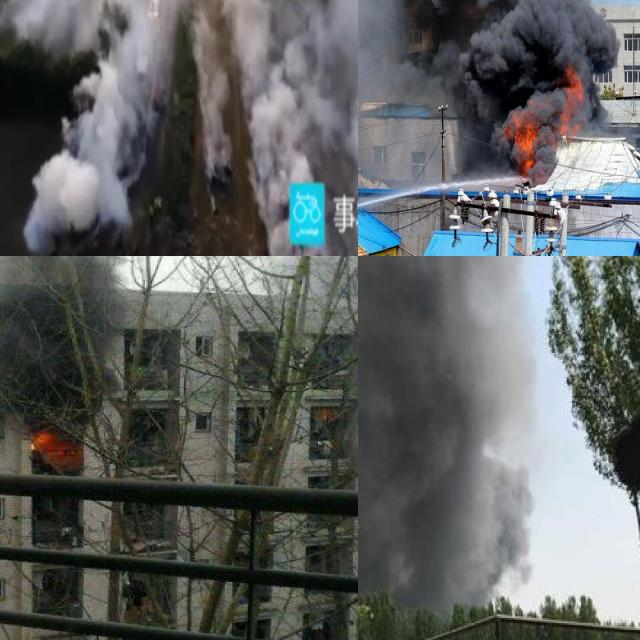fire: (501, 68, 584, 174), (26, 428, 72, 459)
smoke: (0, 0, 358, 256), (358, 256, 535, 604), (358, 0, 640, 176), (0, 256, 165, 423)
